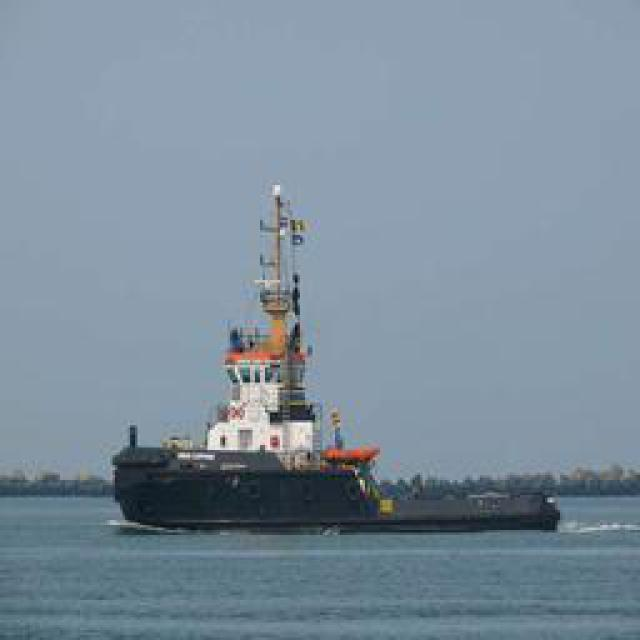Ship: (111, 169, 406, 524)
